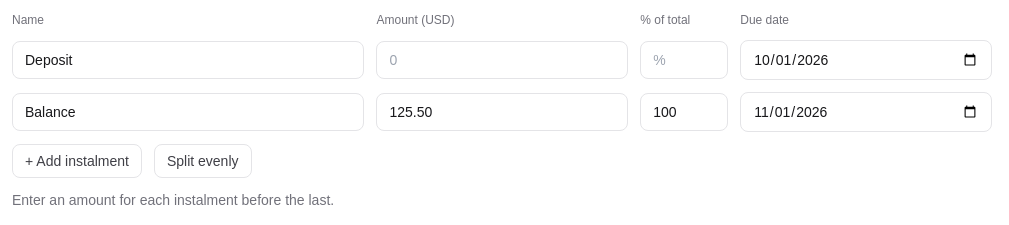
Scenario: InstallmentsEditor › takes dollar amounts and shows the balance with cents
Type "50.25" into the field named "Amount for instalment 1".
click(502, 60); type("50.25")  # box left=376, top=41, right=628, bottom=79
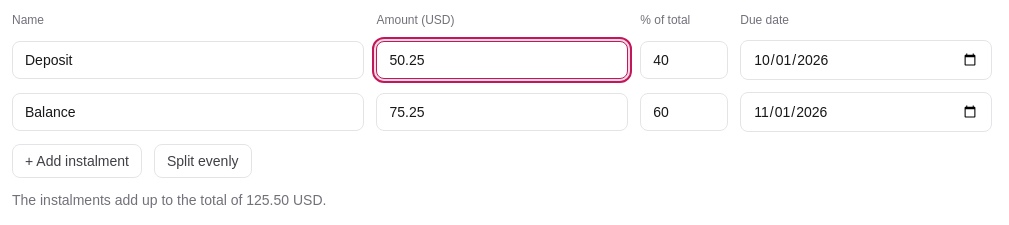
Expected: the field named "Amount for instalment 2" holds "75.25", left=376, top=93, right=628, bottom=131
